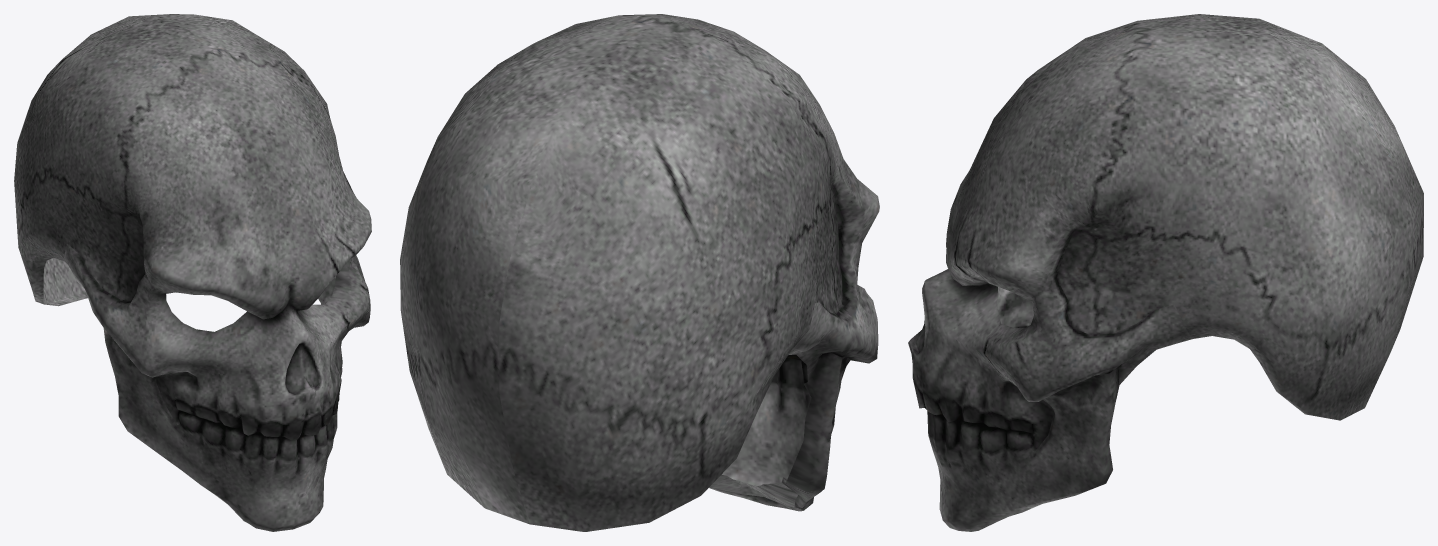
The model's file is SurvivorMale_Head_Mask_Skull_LOD0.glb.
3 renders of one model, left to right at view 1: azimuth 30°, elevation 25°; view 2: azimuth 150°, elevation 25°; view 3: azimuth 270°, elevation 25°, orthographic. The views are drawn at different scales.
Parts seen in each view (by area): view 1: Hoodie; view 2: Hoodie; view 3: Hoodie.
Part boxes in pixels (x1=…): Hoodie: x1=14, y1=14, x2=371, y2=531; Hoodie: x1=400, y1=14, x2=879, y2=531; Hoodie: x1=908, y1=14, x2=1423, y2=531.
Size of the model in its own units: 0.1752 by 0.2578 by 0.2459.
Materials: 1 (1 with a texture image).
